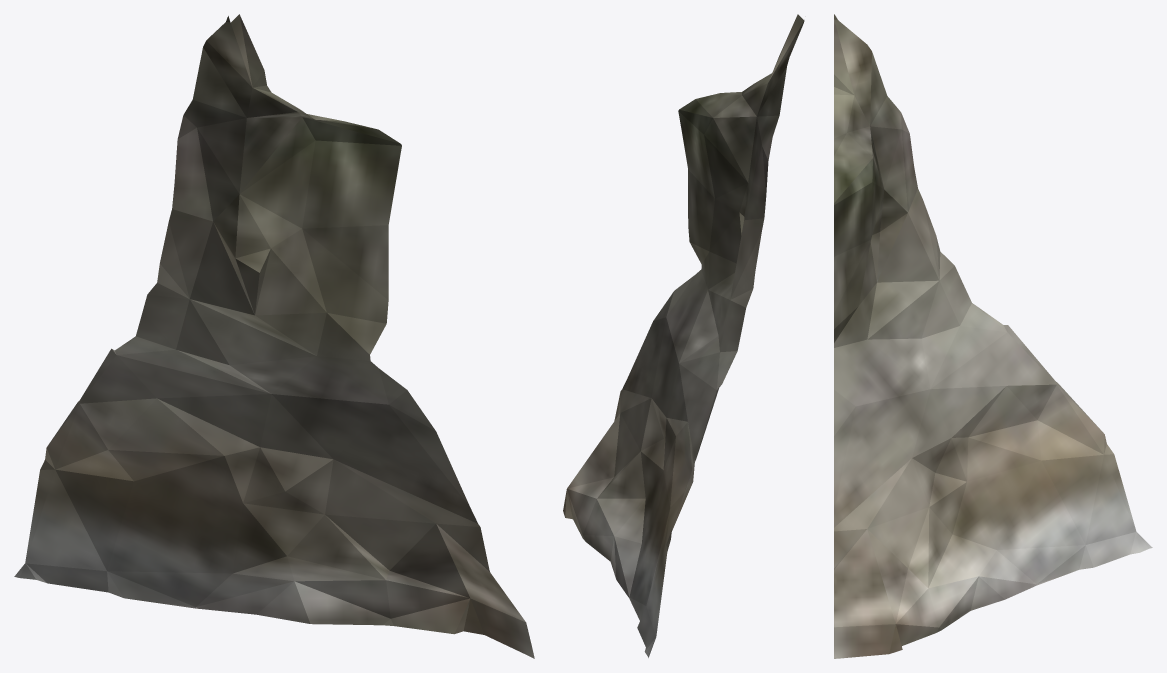
3 renders of one model, left to right at view 1: azimuth 30°, elevation 25°; view 2: azimuth 150°, elevation 25°; view 3: azimuth 270°, elevation 25°, orthographic. The views are drawn at different scales.
Bounding box in the file's own units: 0.5086 × 1.14 × 0.6164.
Materials: 1 (1 with a texture image).
